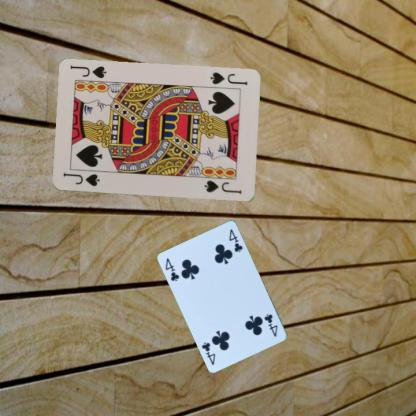4c: (163, 256, 181, 283), (262, 311, 279, 338)
Js: (61, 170, 100, 188), (208, 70, 249, 87)
